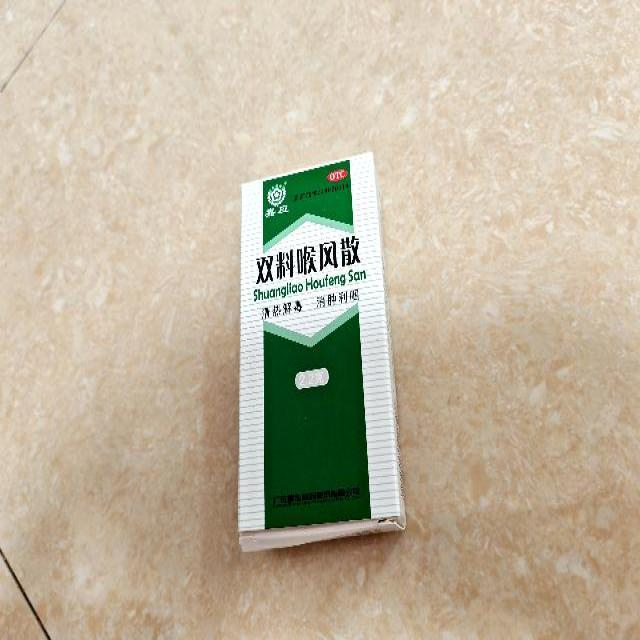box: (240, 150, 406, 554)
